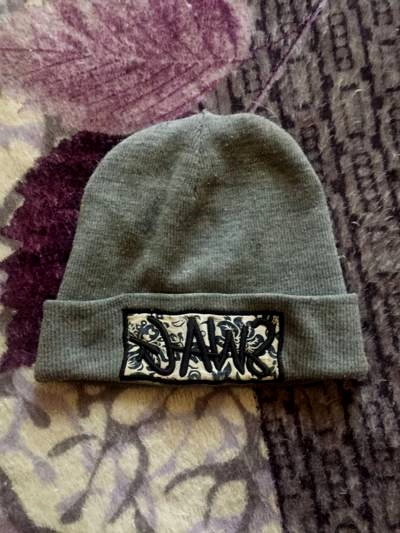Hat: (24, 98, 355, 414)
